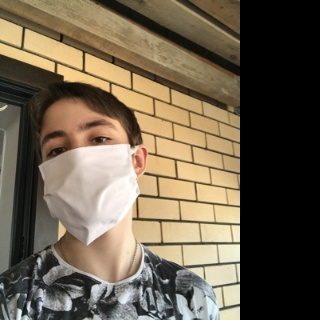with_mask: (38, 115, 141, 245)
